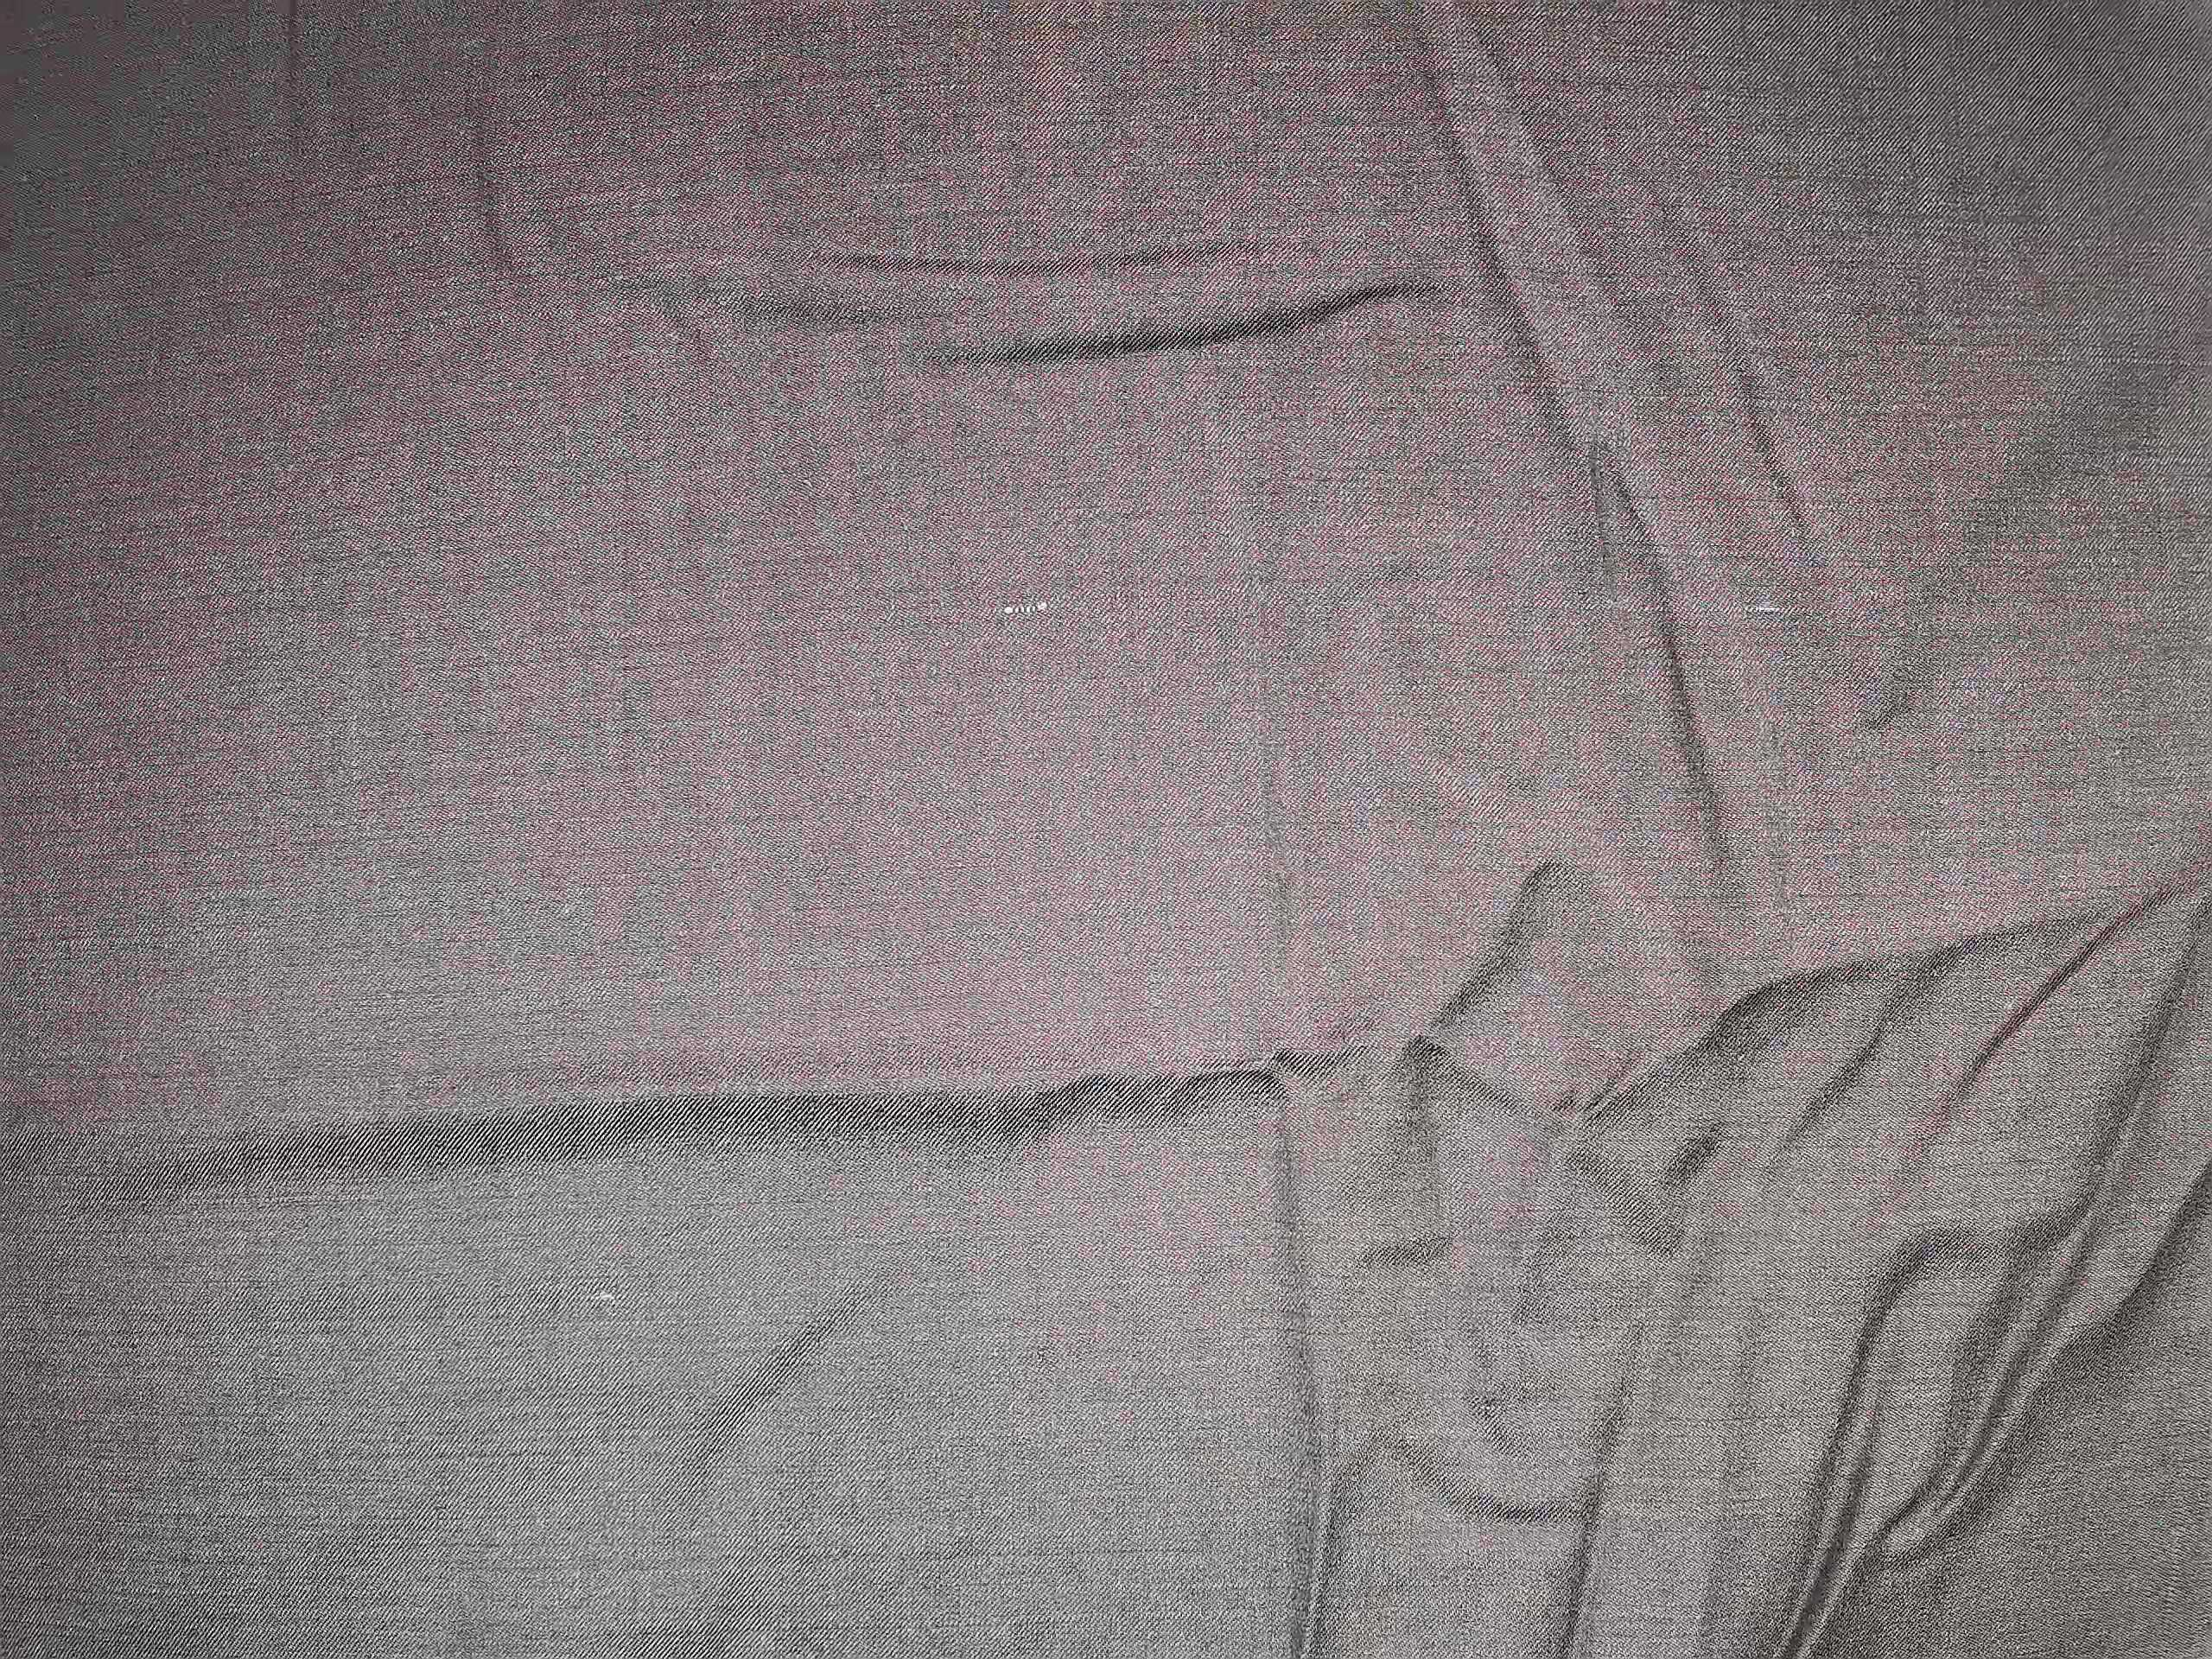others: (979, 566, 1073, 638), (1724, 582, 1811, 640)
